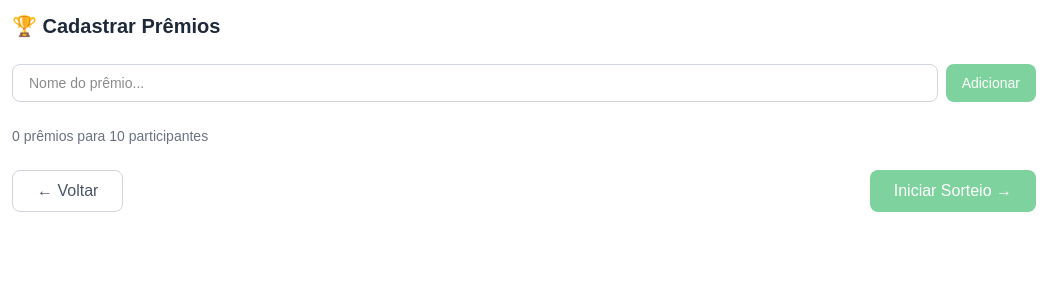
Test case: StepPrizes › adds a prize
The image size is (1048, 299).
In the field with placeholder "Nome do prêmio...": (475, 83) [12, 64, 938, 102], type "Camiseta"
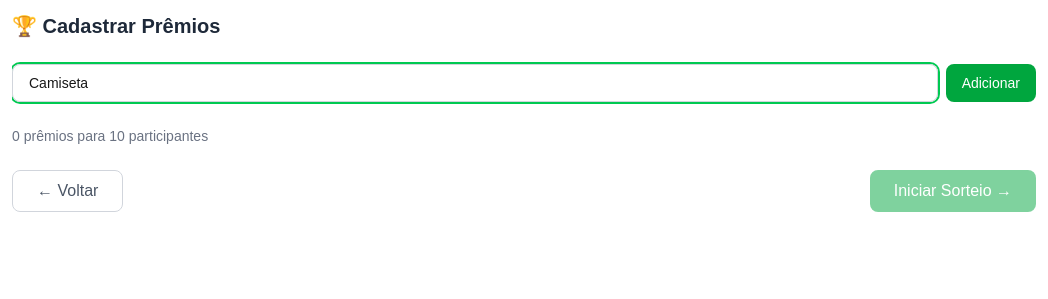
Click the button "Adicionar": (991, 83) [946, 64, 1036, 102]
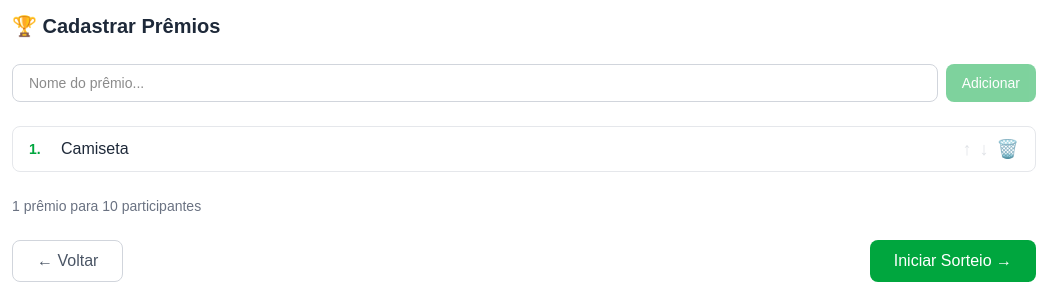
Result: the text "Camiseta" is shown at [61, 140, 129, 157]
Result: the text "1 prêmio para 10 participantes" is shown at [12, 198, 201, 214]
